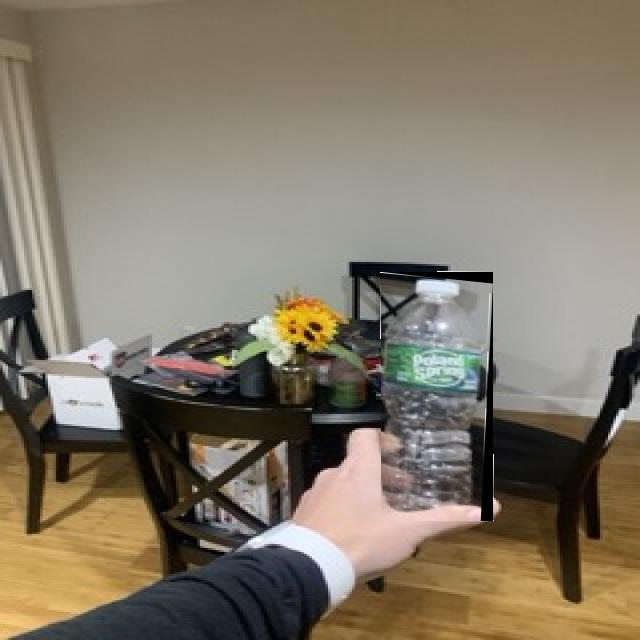water_bottle: (381, 272, 493, 521)
